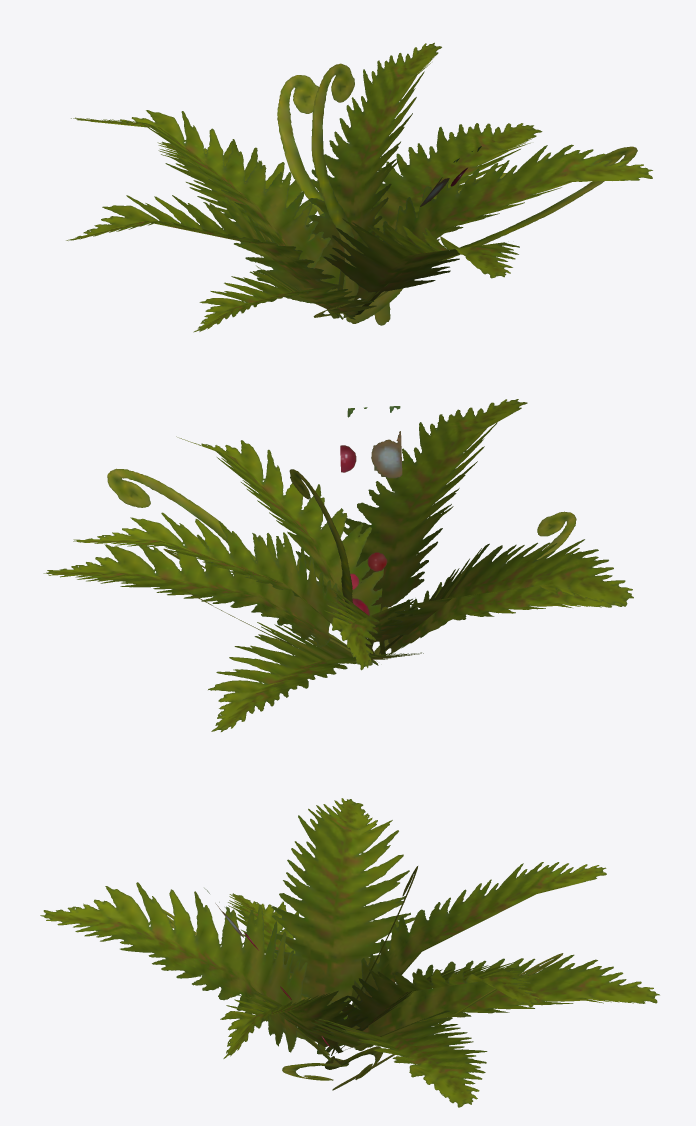
The model's file is fb_chun_gm04_55_30_3351out.fbx.
The picture shows the model from 3 angles, top to bottom: view 1: azimuth 30°, elevation 25°; view 2: azimuth 150°, elevation 25°; view 3: azimuth 270°, elevation 25°; orthographic projection. The views are drawn at different scales.
Visible parts, largest first — view 1: fb_chun_gm04; view 2: fb_chun_gm04; view 3: fb_chun_gm04.
Boxes of the visible parts, x1,y1,x2,y2 form: fb_chun_gm04: [66, 42, 652, 332]; fb_chun_gm04: [43, 399, 633, 731]; fb_chun_gm04: [40, 798, 659, 1107].
Bounding box in the file's own units: 1.85 × 0.7171 × 1.87.
